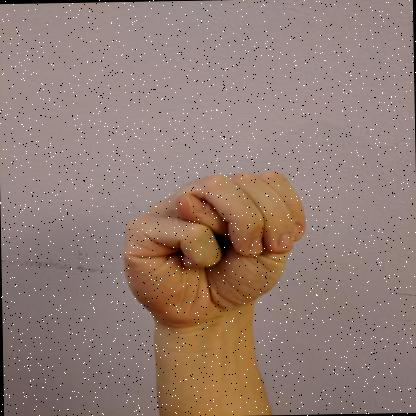M: (123, 171, 305, 328)
